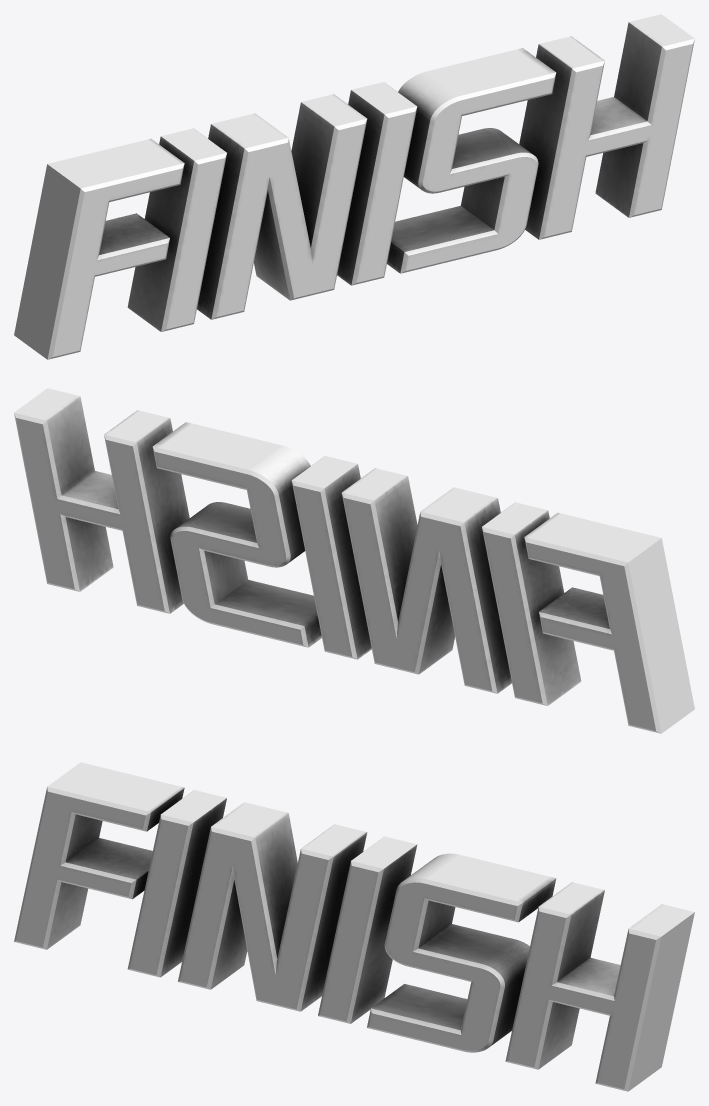
Rendered from label_finish.fbx.
3 views of the same model, one above another, from view 1: azimuth 30°, elevation 25°; view 2: azimuth 150°, elevation 25°; view 3: azimuth 330°, elevation 25° (orthographic).
Parts seen in each view (by area): view 1: Text007_Text007_mtl_LOD1; view 2: Text007_Text007_mtl_LOD1; view 3: Text007_Text007_mtl_LOD1.
Part boxes in pixels (x1,y1,x2,y2): Text007_Text007_mtl_LOD1: [14, 14, 694, 359]; Text007_Text007_mtl_LOD1: [14, 388, 694, 733]; Text007_Text007_mtl_LOD1: [14, 762, 694, 1091].
Size of the model in its own units: 22.29 by 2.2 by 5.37.
